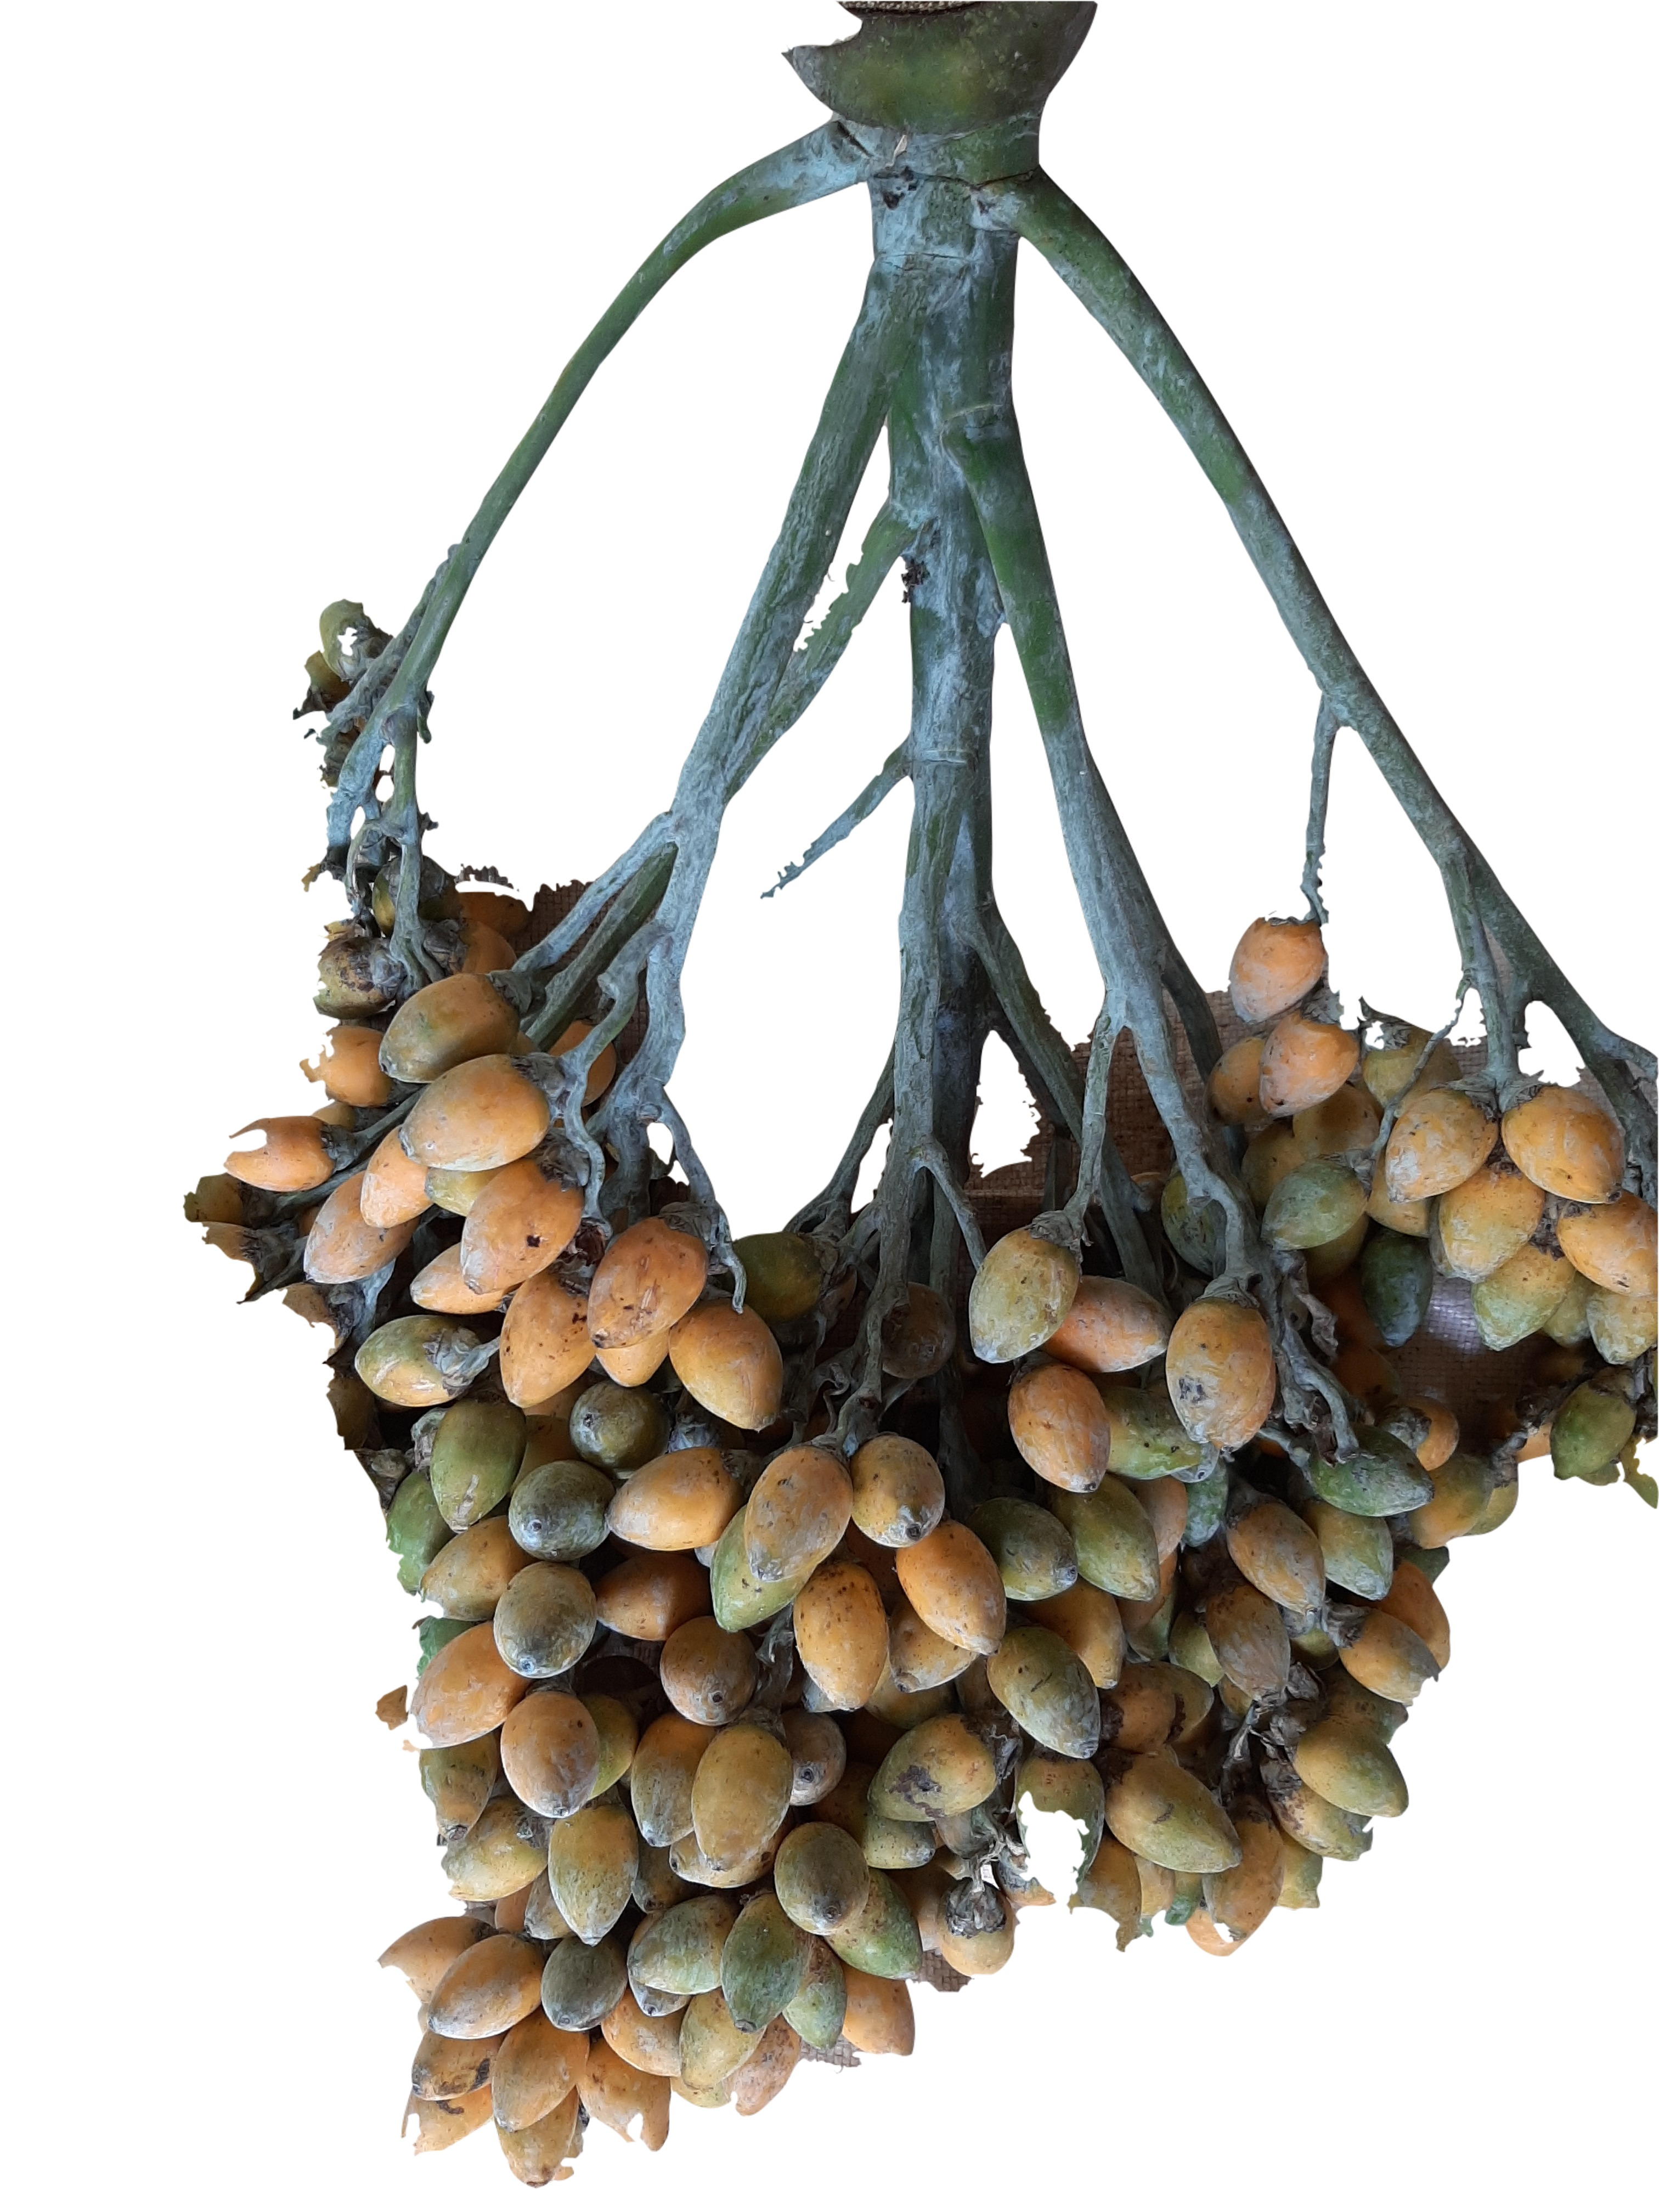areca bunch: (197, 5, 1659, 2196)
